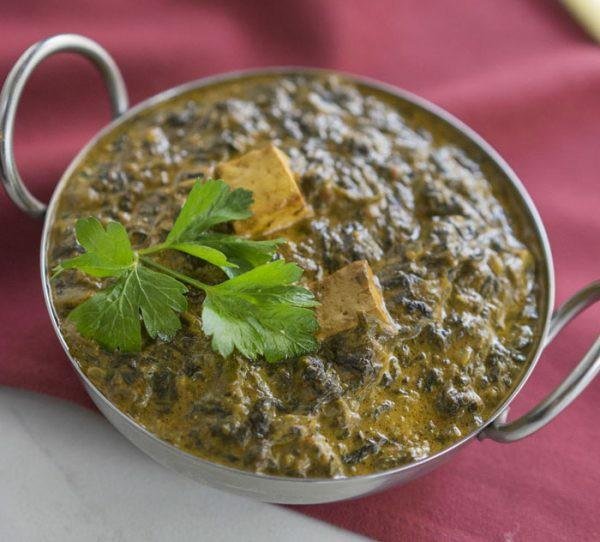PalakPaneer: (47, 66, 543, 479)
